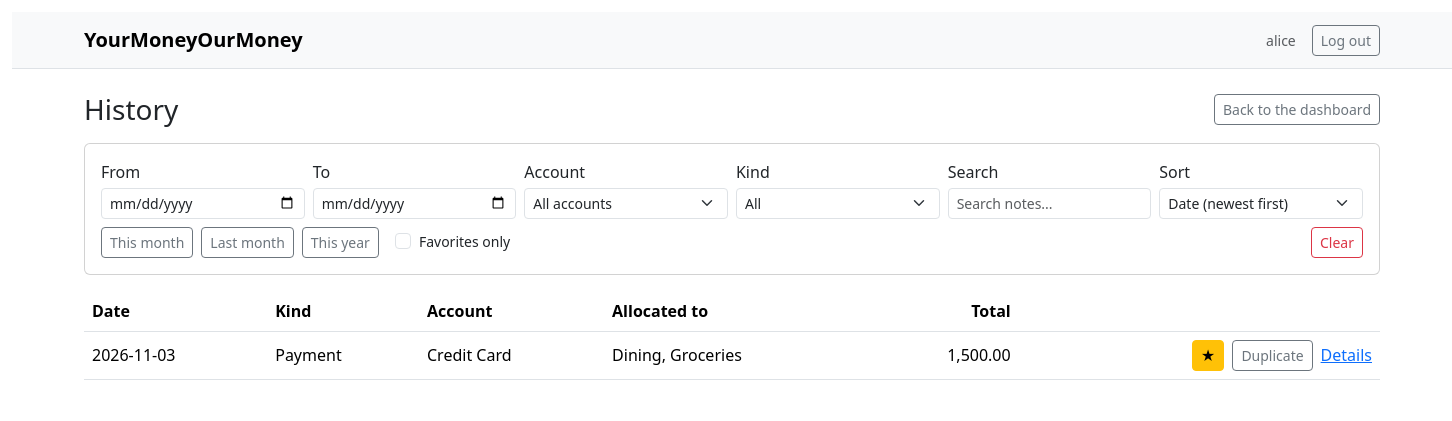
Scenario: FavoriteToggle, FavoritesCard, and History favorite filter (T-FAV-UI-03) › History 'Favorites only' checkbox sets ?favorite=true in URL and request
Click the checkbox labelled "Favorites only".
click(403, 241)  # box [395,233,411,249]
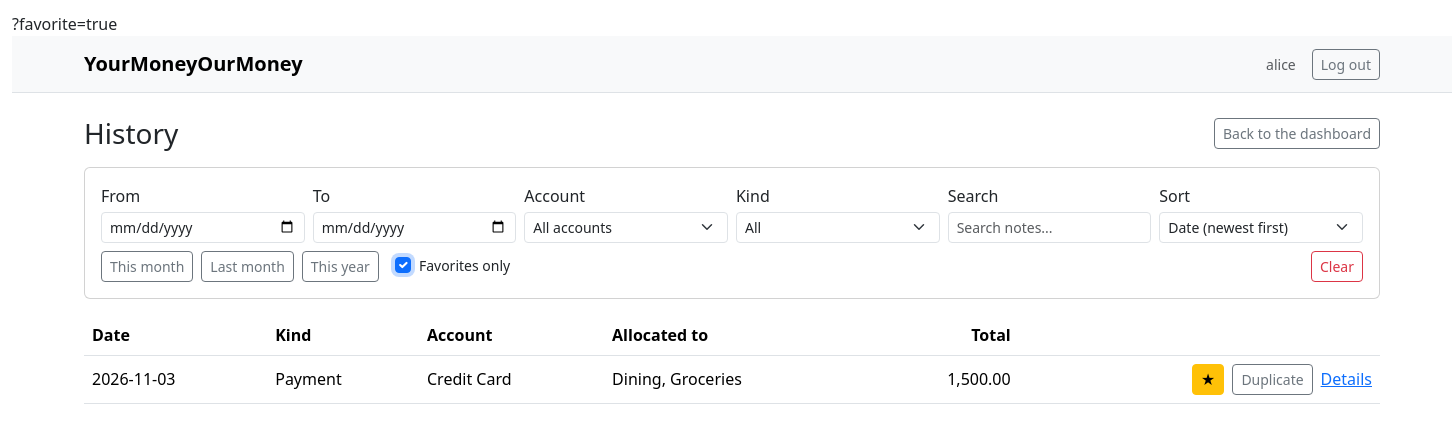
Expected: the text with test id "url-search" shows "favorite=true", [12,13,117,35]
